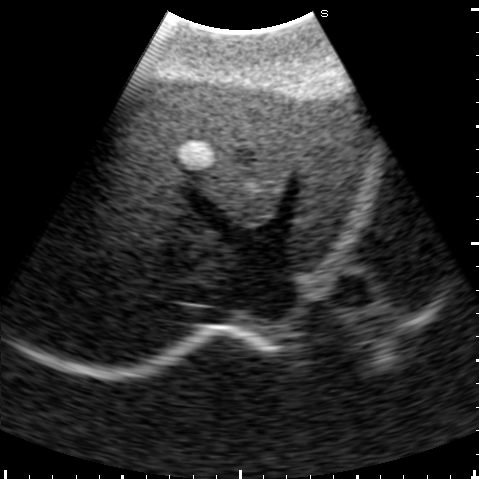S2: (292, 120, 366, 271)
S4: (129, 81, 308, 221)
S7: (46, 265, 179, 362)
S8: (85, 141, 225, 291)
Tumor: (179, 141, 211, 167)
